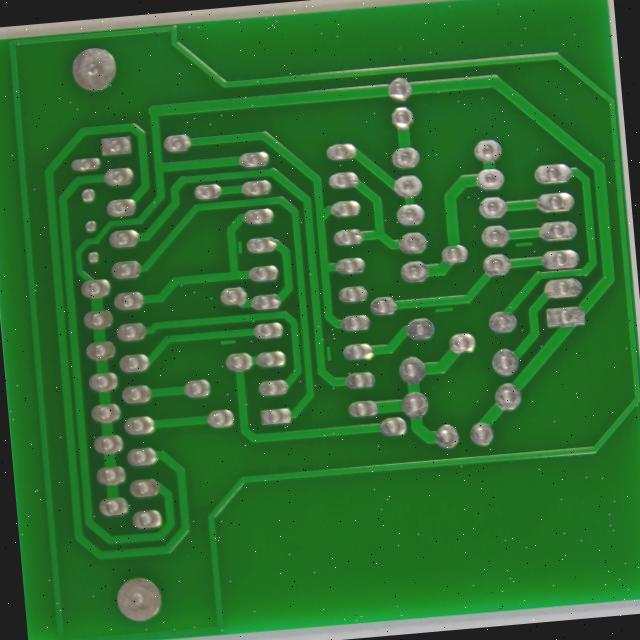spurious_copper: (408, 337, 439, 356), (499, 264, 526, 282), (286, 383, 303, 407), (170, 375, 194, 390), (187, 268, 204, 286)
